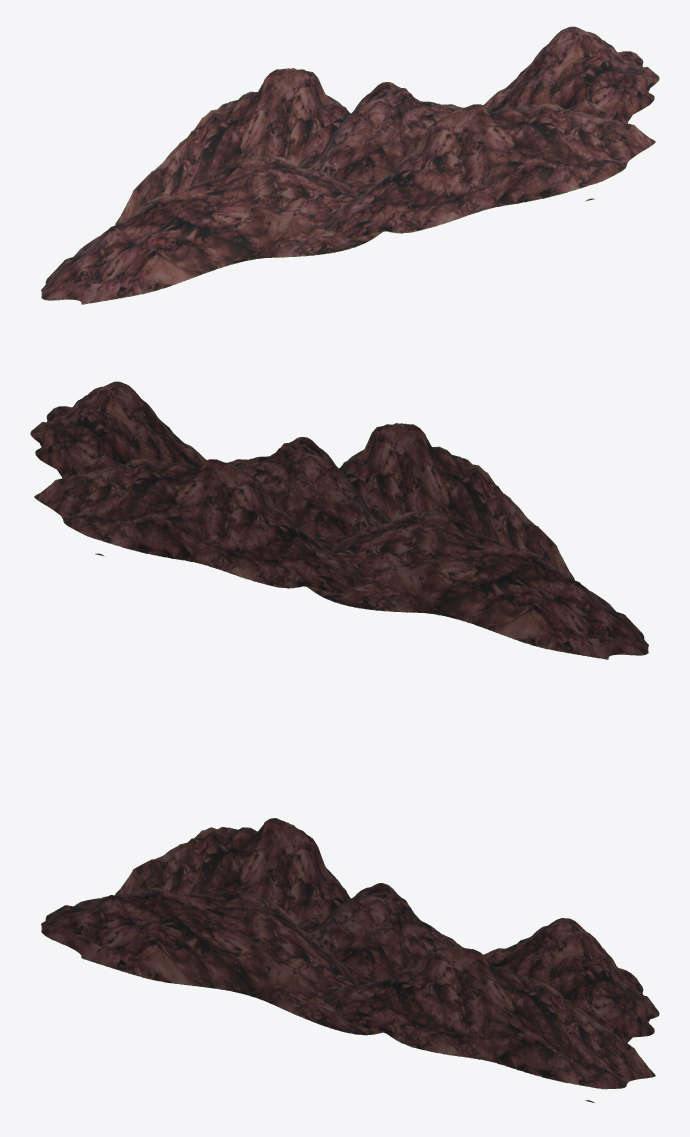
File: distant_pig_pile_5.fbx
The picture shows the model from 3 angles, top to bottom: view 1: azimuth 30°, elevation 25°; view 2: azimuth 150°, elevation 25°; view 3: azimuth 330°, elevation 25°; orthographic projection.
Visible parts, largest first — view 1: distant_pig_pile_05; view 2: distant_pig_pile_05; view 3: distant_pig_pile_05.
Part boxes in pixels (x1,y1,x2,y2): distant_pig_pile_05: [41, 26, 659, 304]; distant_pig_pile_05: [30, 381, 648, 659]; distant_pig_pile_05: [41, 818, 659, 1102].
Bounding box in the file's own units: 1200 × 411 × 0.000233.
